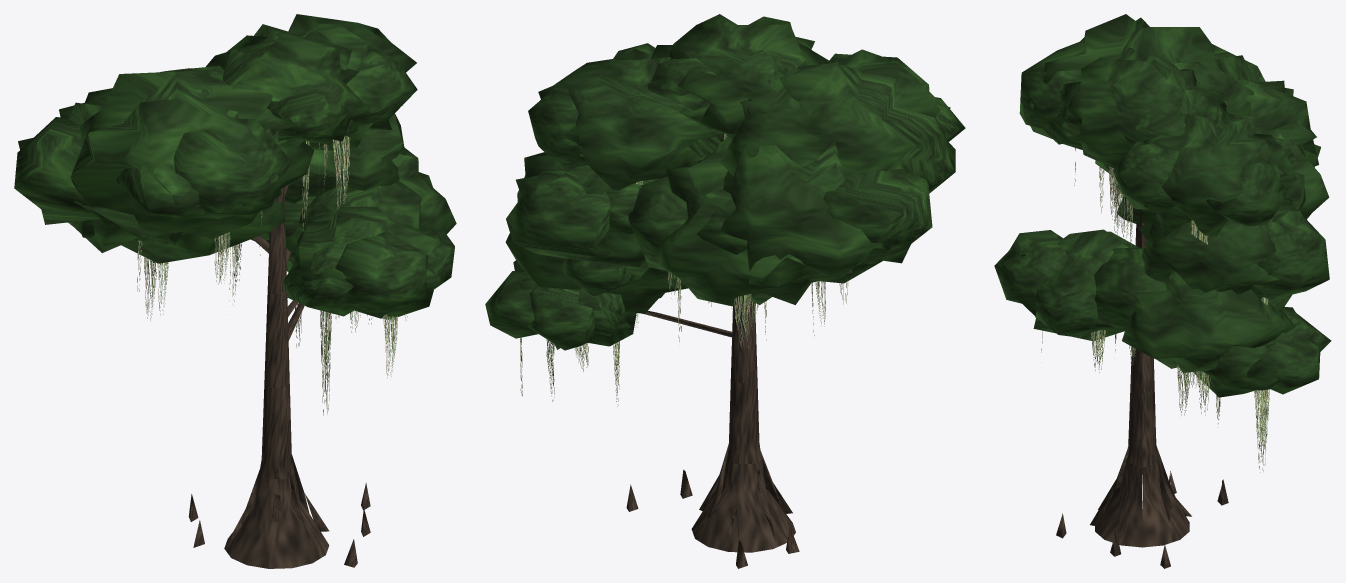
File: cypress_2_lite.glb
3 renders of one model, left to right at view 1: azimuth 30°, elevation 25°; view 2: azimuth 150°, elevation 25°; view 3: azimuth 270°, elevation 25°, orthographic. The views are drawn at different scales.
Visible parts, largest first — view 1: cypress; view 2: cypress; view 3: cypress.
Boxes of the visible parts, bbox=[...] form: cypress: bbox=[14, 14, 456, 568]; cypress: bbox=[485, 14, 965, 568]; cypress: bbox=[994, 14, 1331, 568].
Bounding box in the file's own units: 13.77 × 16.19 × 10.53.
3 materials, 3 textured.
